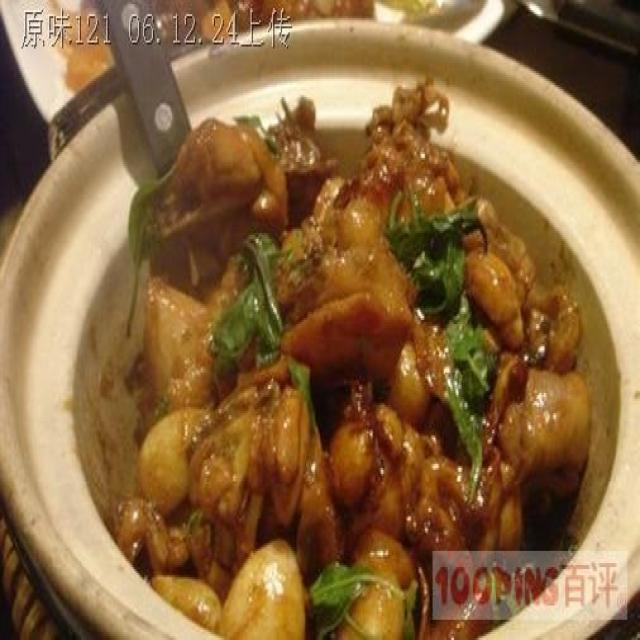鸡肉料理 含炸鸡: (35, 26, 630, 616)
